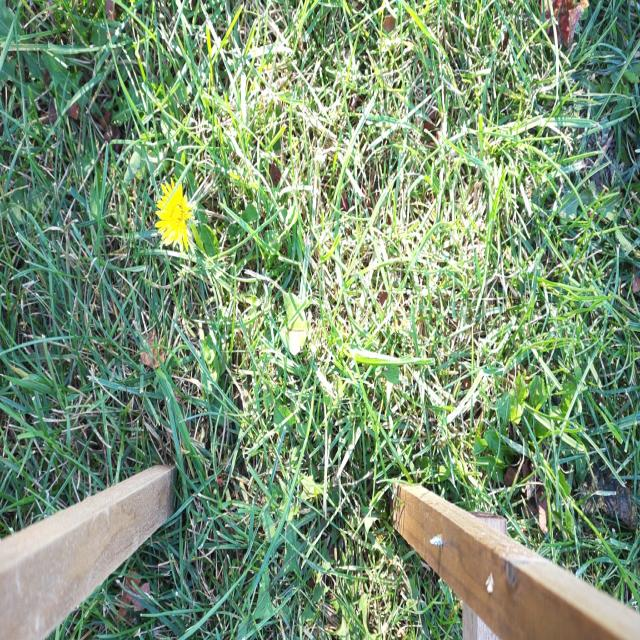flower: (153, 179, 196, 247)
